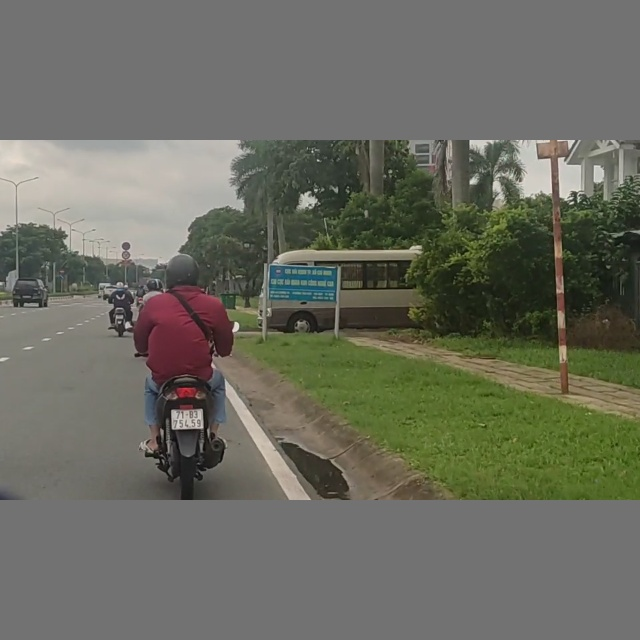P.102: (58, 268, 65, 274)
P.111: (121, 251, 131, 259)
P.130: (122, 241, 131, 250)
R.302a: (59, 274, 66, 280)
